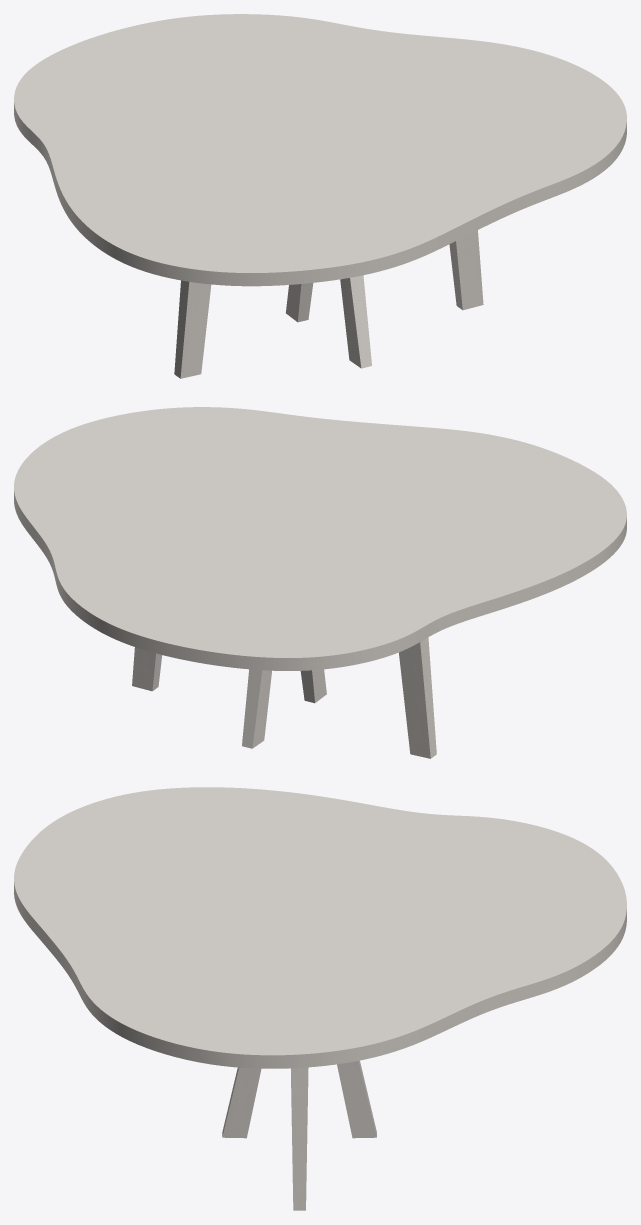
File: pearlwhite_topone_standard_searwalnut.glb
3 renders of one model, top to bottom at view 1: azimuth 30°, elevation 25°; view 2: azimuth 150°, elevation 25°; view 3: azimuth 270°, elevation 25°, orthographic. The views are drawn at different scales.
Parts seen in each view (by area): view 1: standard_topone, searwalnut; view 2: standard_topone, searwalnut; view 3: standard_topone, searwalnut.
Part boxes in pixels (x1,y1,x2,y2): standard_topone: (14, 14, 626, 286); searwalnut: (174, 230, 483, 378); standard_topone: (14, 407, 626, 670); searwalnut: (132, 637, 436, 758); standard_topone: (14, 787, 626, 1068); searwalnut: (222, 1060, 376, 1210).
Size of the model in its own units: 6.83 by 2.5 by 6.6.
1 material, 1 textured.
